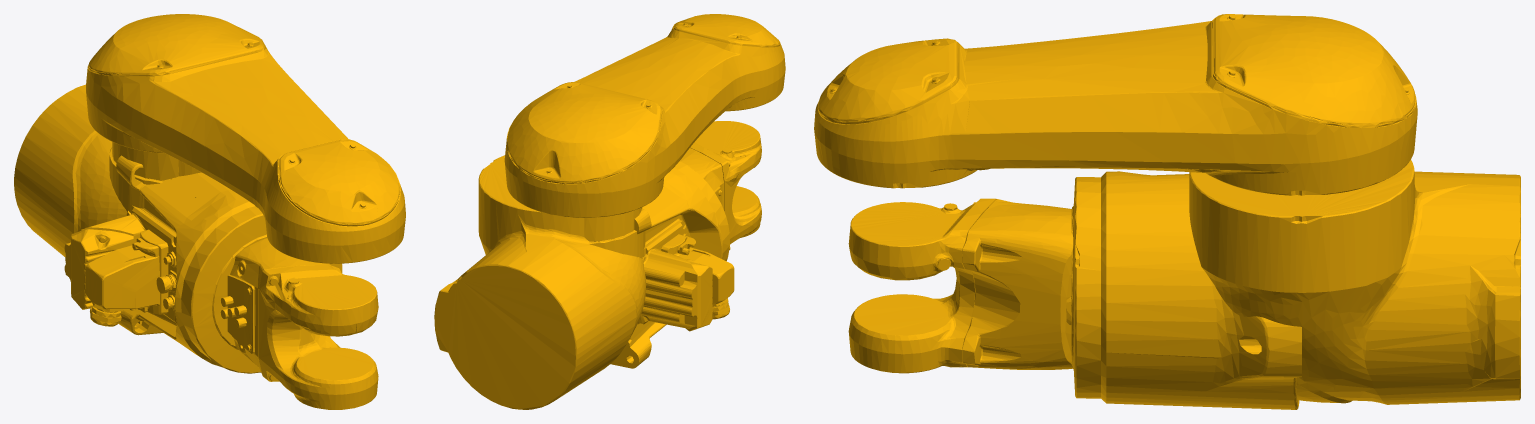
The model's file is arm.glb.
3 renders of one model, left to right at view 1: azimuth 30°, elevation 25°; view 2: azimuth 150°, elevation 25°; view 3: azimuth 270°, elevation 25°, orthographic. The views are drawn at different scales.
Parts seen in each view (by area): view 1: b3, b1, b5, b2, b4; view 2: b3, b2, b1, b5, b4; view 3: b3, b2, b1, b5.
Part boxes in pixels (x1,y1,x2,y2): b3: (86,14,405,263); b1: (64,155,342,373); b5: (220,238,378,409); b2: (14,84,201,256); b4: (109,142,178,213); b3: (504,14,785,217); b2: (434,155,646,409); b1: (610,161,734,368); b5: (680,121,761,249); b4: (584,207,645,258); b3: (814,14,1417,195); b2: (1189,160,1520,404); b1: (1066,171,1301,409); b5: (848,198,1073,373).
Bounding box in the file's own units: 0.365 × 0.4249 × 0.7535.
